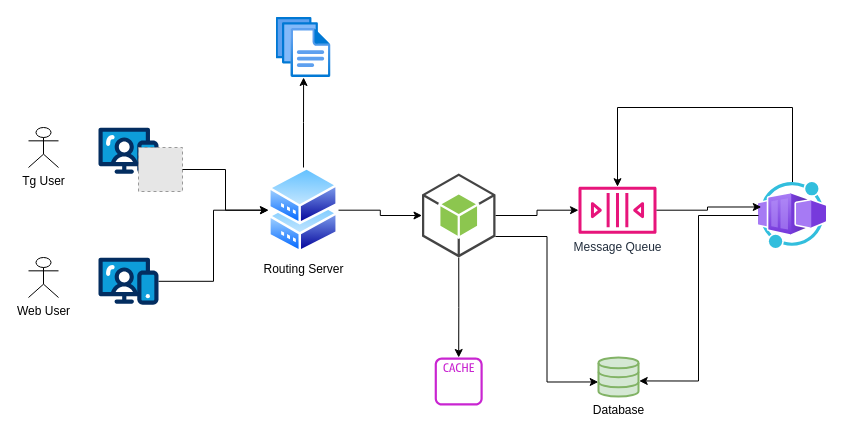
This 844x435 diagram has some shape labels left out. Grey dashed boxes stand in for pictures. The centre of each missing label's shape, as x and y in pixels:
"Backend API" goes at point (458, 215).
"Runner" goes at point (792, 215).
"web resources" goes at point (303, 47).
